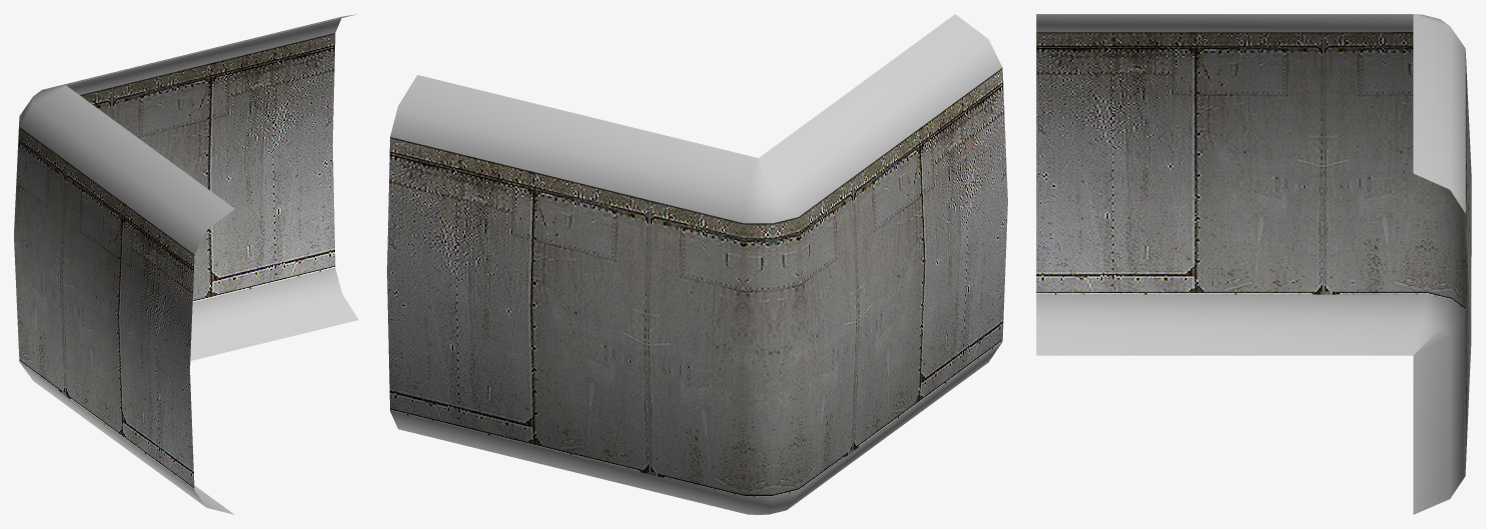
The model's file is Wall_D_Short2mts_05.fbx.
3 renders of one model, left to right at view 1: azimuth 30°, elevation 25°; view 2: azimuth 150°, elevation 25°; view 3: azimuth 270°, elevation 25°, orthographic. The views are drawn at different scales.
Parts seen in each view (by area): view 1: Wall_D_Short2mts_05; view 2: Wall_D_Short2mts_05; view 3: Wall_D_Short2mts_05.
Boxes of the visible parts, x1,y1,x2,y2 form: Wall_D_Short2mts_05: [14, 14, 358, 514]; Wall_D_Short2mts_05: [387, 14, 1007, 514]; Wall_D_Short2mts_05: [1036, 14, 1471, 514].
Bounding box in the file's own units: 231 × 200 × 231.
